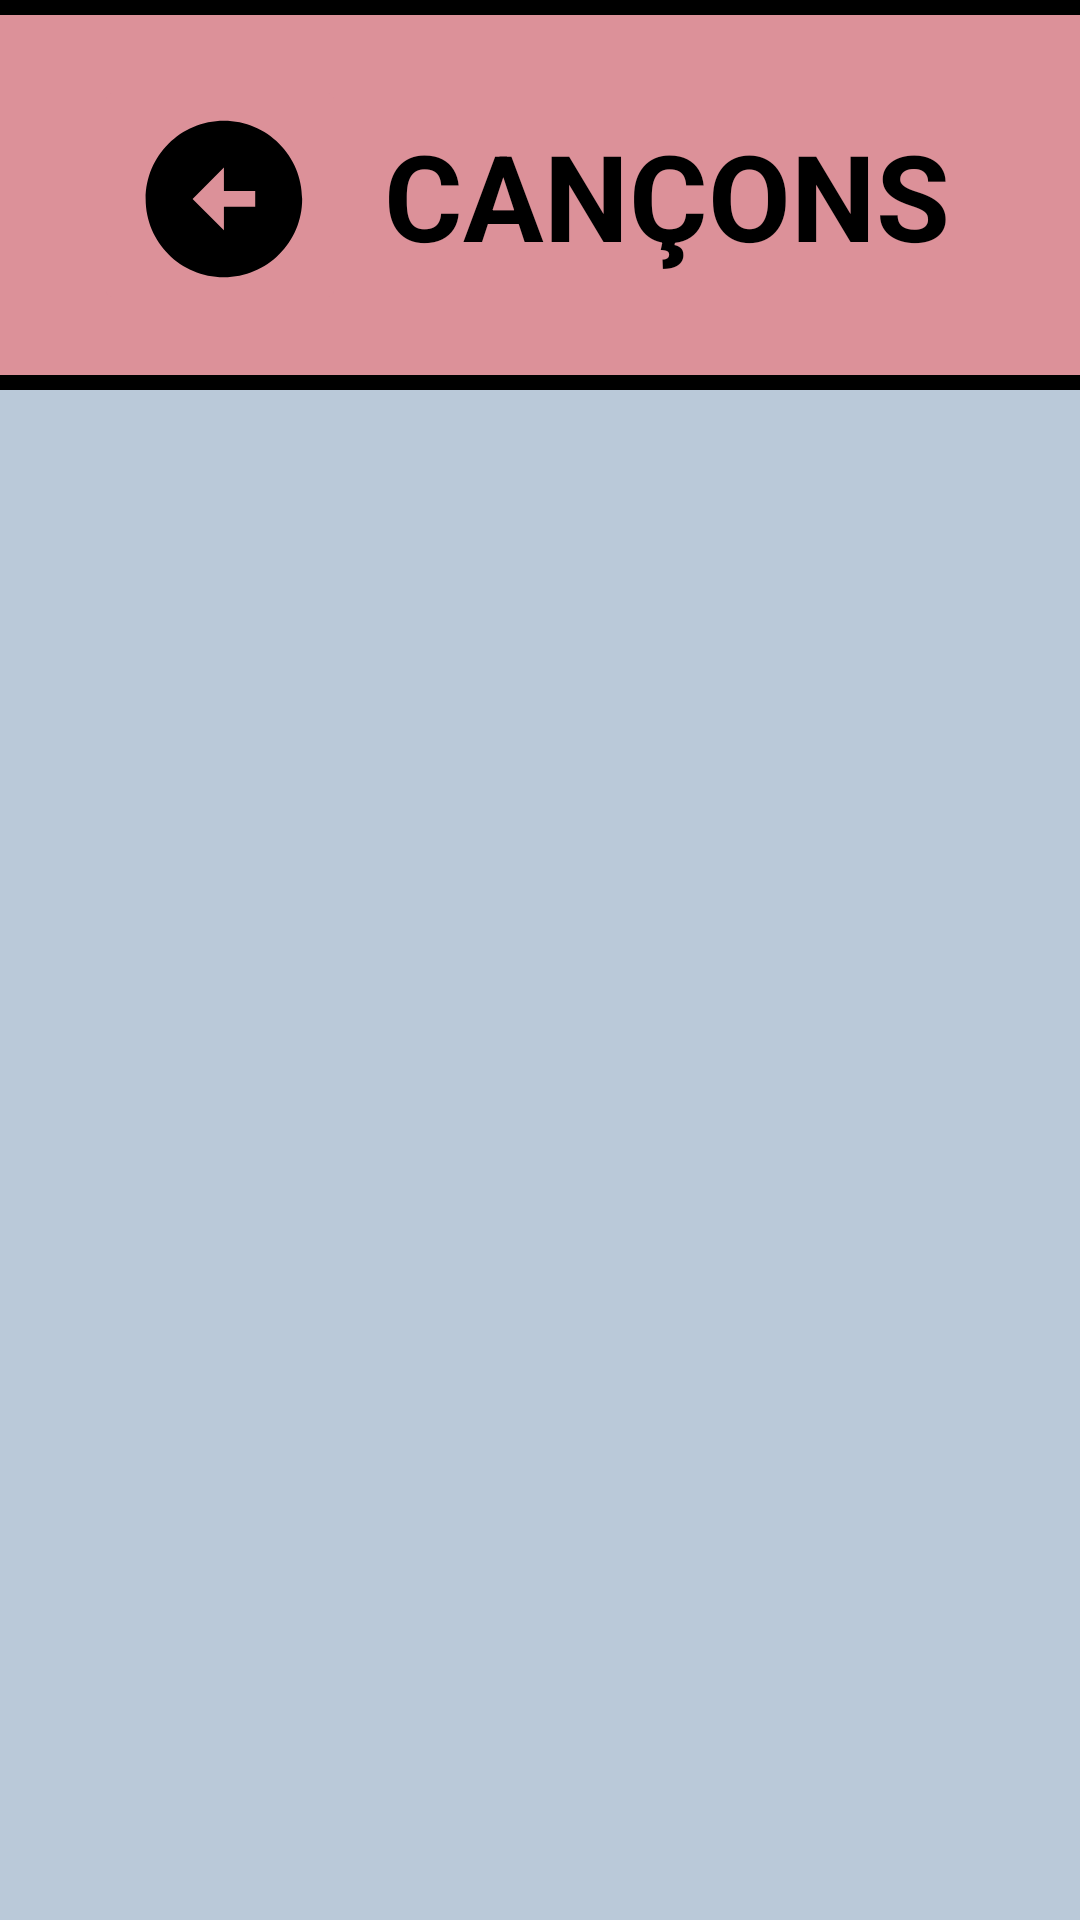

Where icons sit on this 1080*1920 app screen, as (x1,y1,x2,y2):
arrow circle left: (145,120,303,278)
